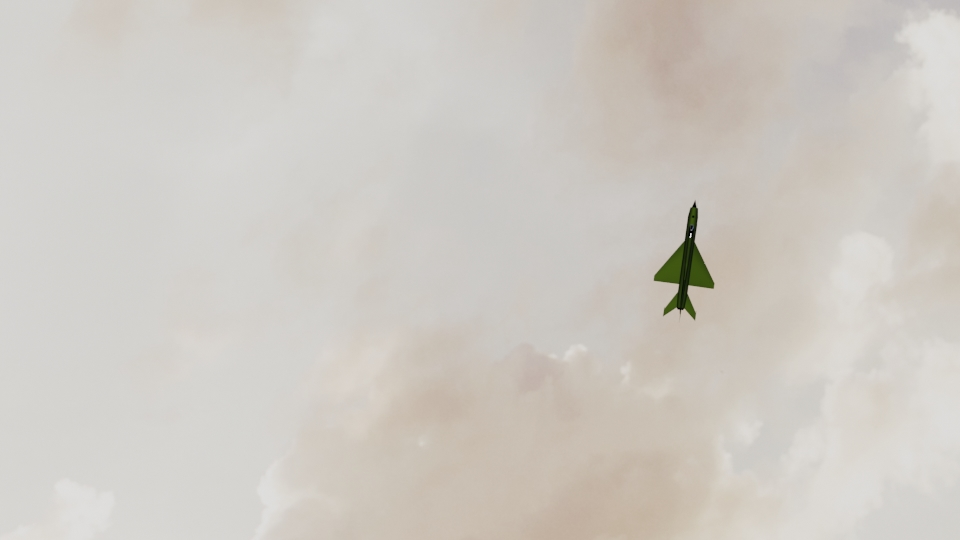plane: (654, 201, 714, 318)
